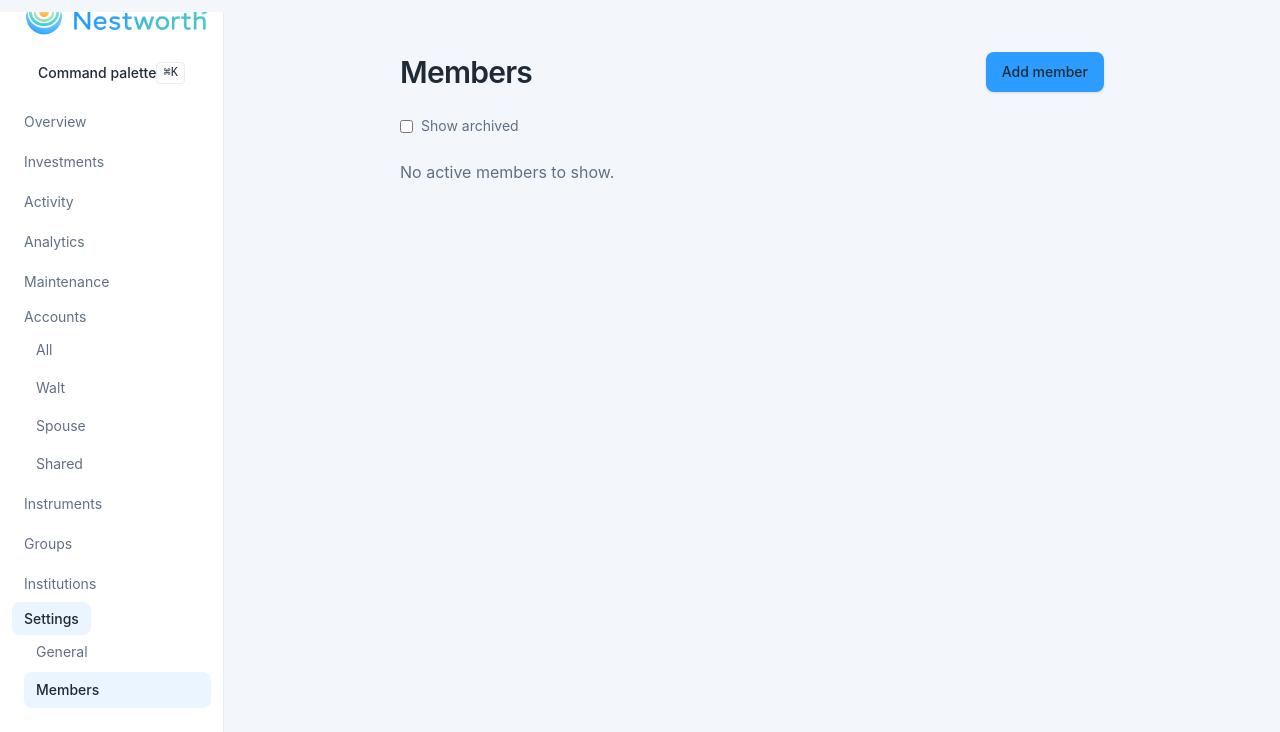
Test: members page › focuses name when client validation fails
(page scrolled)
Expected: the navigation bar named "Household" is shown, 0,12 -> 224,731
Click the link "Members". click: (118, 690)
box: 24,672 -> 211,708
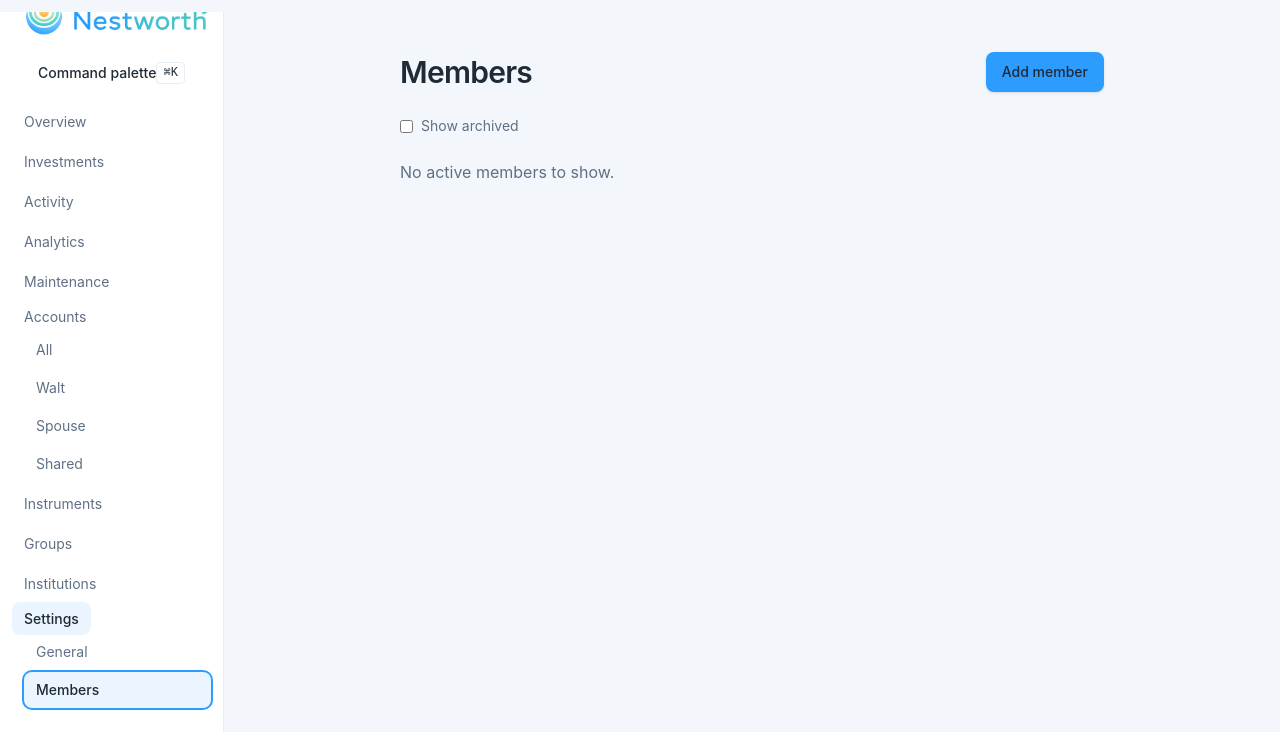
Click the button "Add member". click: (1045, 72)
box: 986,52 -> 1104,92
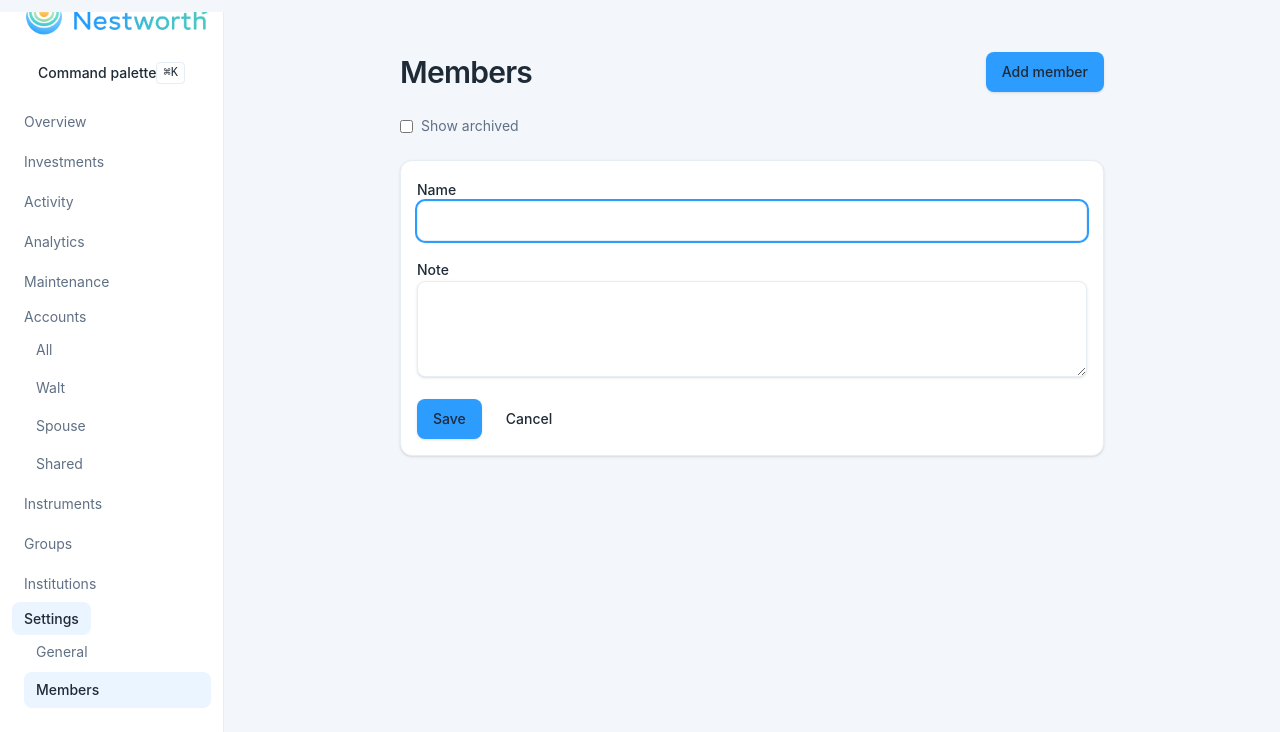
Click the button "Save". click: (449, 419)
box: 417,399 -> 482,439
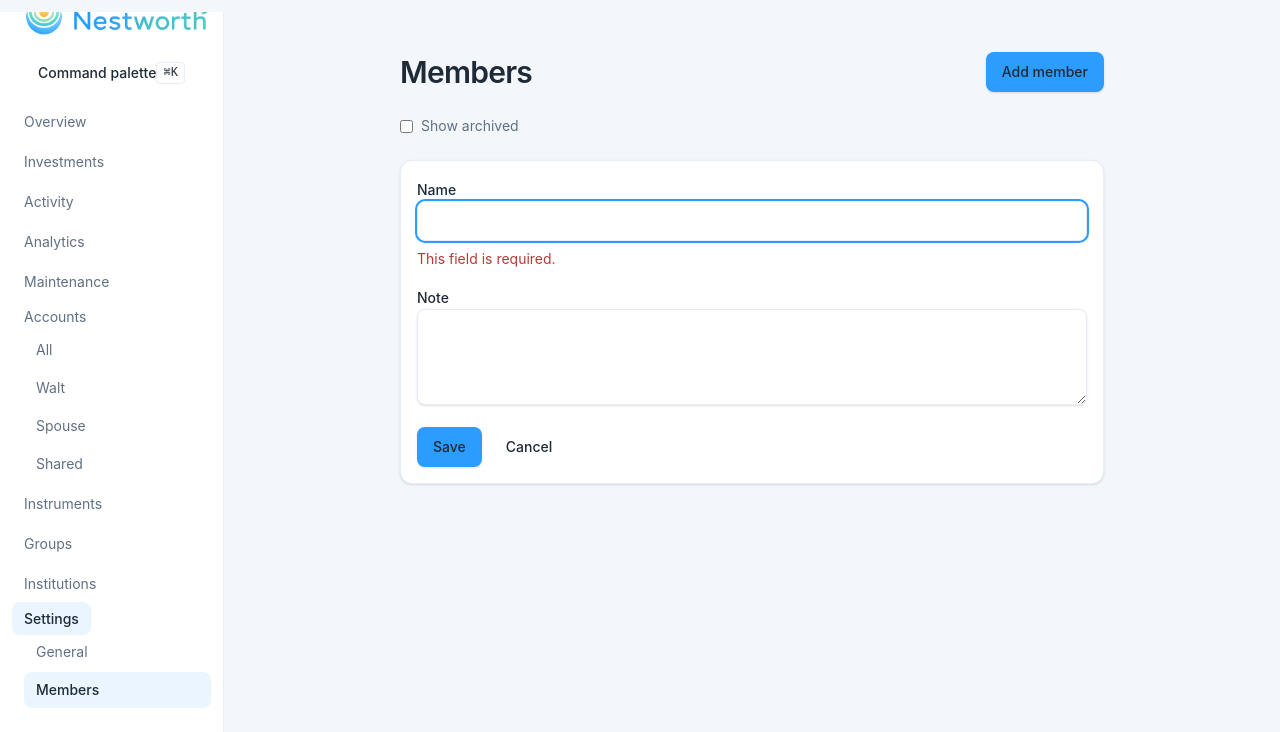
Expected: the text "This field is required." is shown, 417,250 -> 556,267
